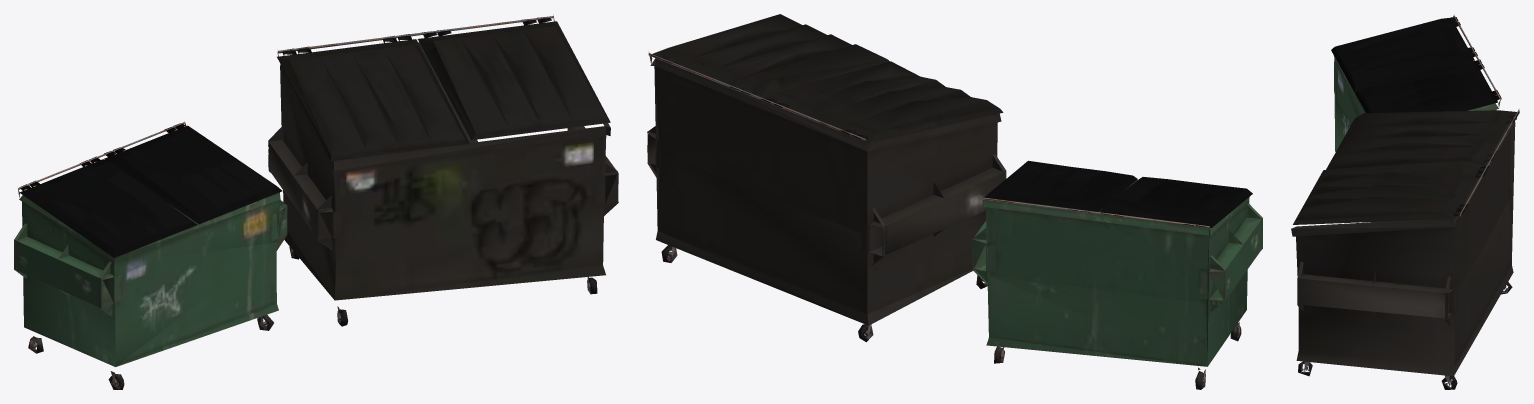
File: dumpster_lod1.glb
The picture shows the model from 3 angles, left to right: view 1: azimuth 30°, elevation 25°; view 2: azimuth 150°, elevation 25°; view 3: azimuth 270°, elevation 25°; orthographic projection. The views are drawn at different scales.
Visible parts, largest first — view 1: dumpster; view 2: dumpster; view 3: dumpster.
Part boxes in pixels (x1,y1,x2,y2): dumpster: (14, 15, 618, 389); dumpster: (647, 14, 1262, 389); dumpster: (1291, 15, 1519, 389).
Size of the model in its own units: 3.8 by 1.35 by 1.52.
2 materials, 2 textured.
